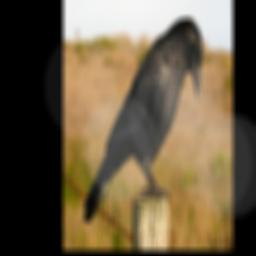Crow: (81, 17, 203, 224)
